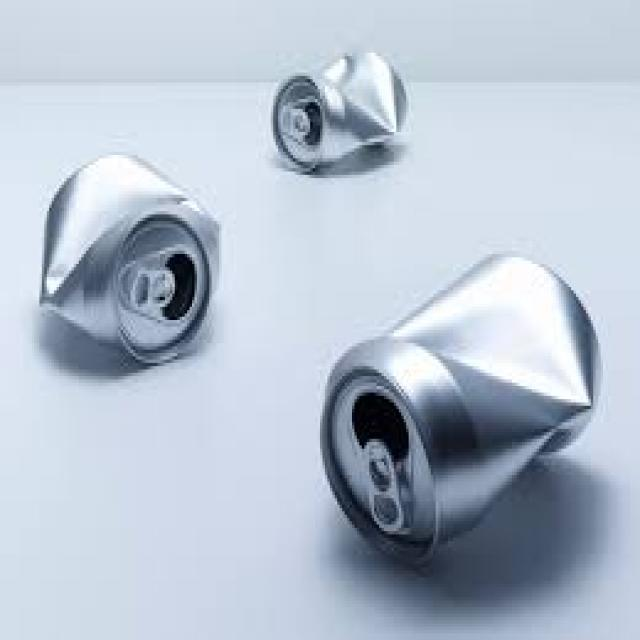metal-can: (318, 251, 600, 561), (39, 155, 228, 366), (273, 49, 411, 178)
